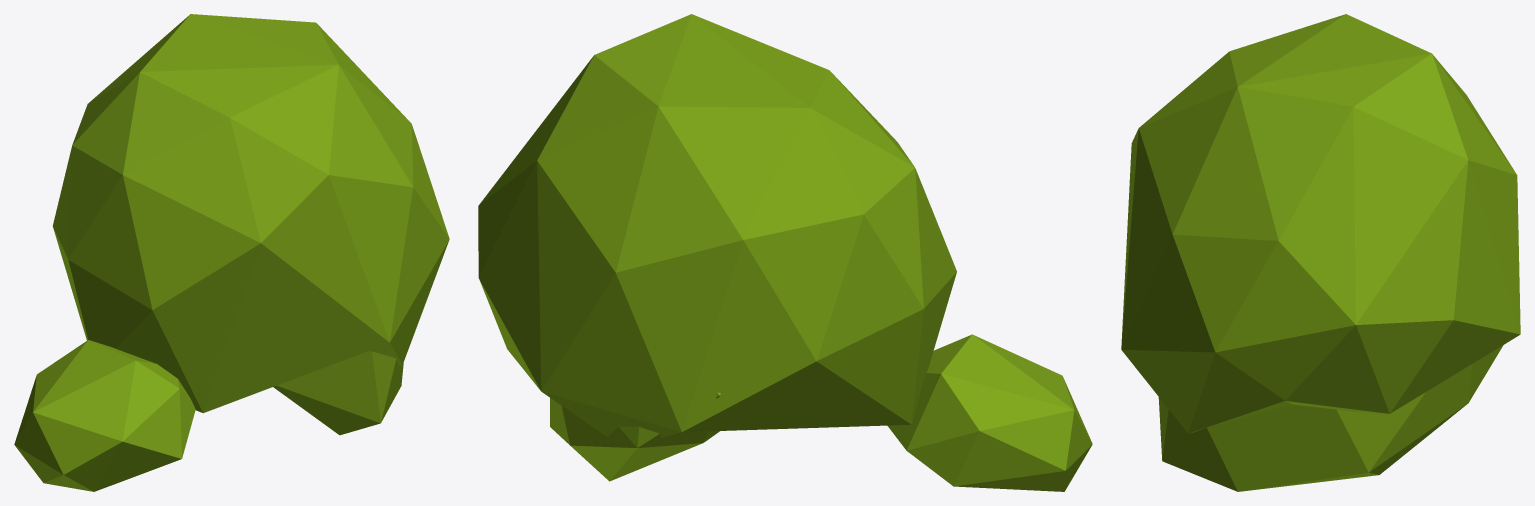
The model's file is tree-summer-leaves-025.glb.
The picture shows the model from 3 angles, left to right: view 1: azimuth 30°, elevation 25°; view 2: azimuth 150°, elevation 25°; view 3: azimuth 270°, elevation 25°; orthographic projection. The views are drawn at different scales.
Parts seen in each view (by area): view 1: Icosphere.002_253; view 2: Icosphere.002_253; view 3: Icosphere.002_253.
Boxes of the visible parts, <box> form: Icosphere.002_253: <box>14,14,449,491</box>; Icosphere.002_253: <box>478,14,1092,491</box>; Icosphere.002_253: <box>1121,14,1520,491</box>.
Bounding box in the file's own units: 1.35 × 1.05 × 0.9464.
